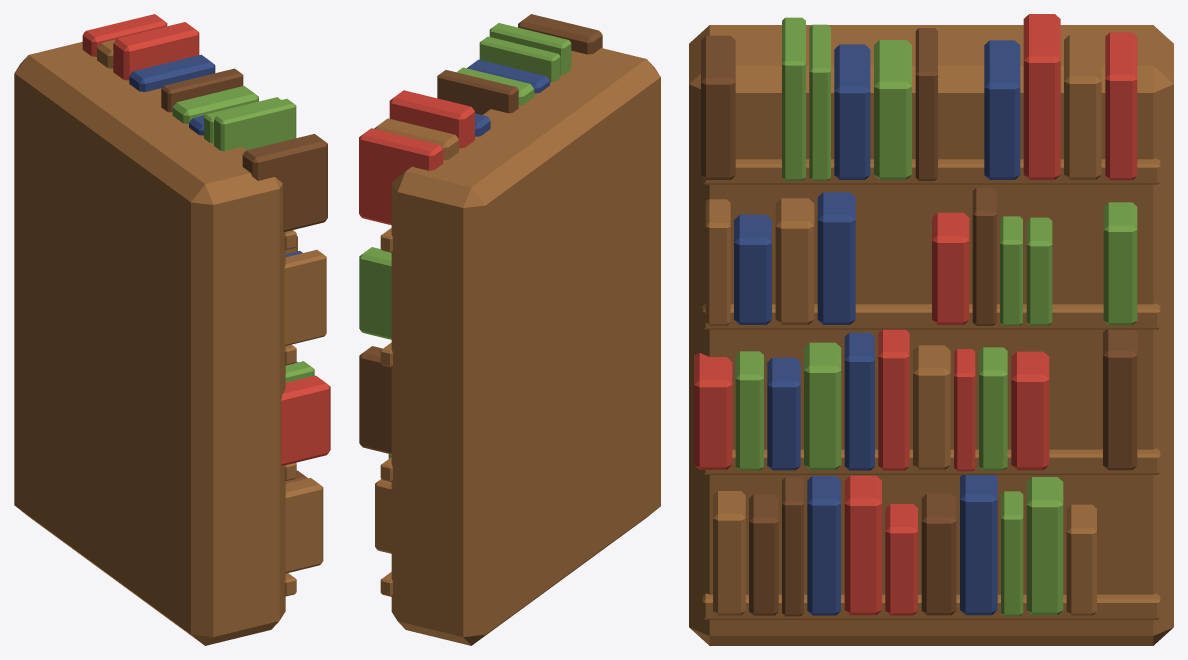
Rendered from prop_bookshelf_704c.glb.
3 renders of one model, left to right at view 1: azimuth 30°, elevation 25°; view 2: azimuth 150°, elevation 25°; view 3: azimuth 270°, elevation 25°, orthographic. The views are drawn at different scales.
Parts seen in each view (by area): view 1: prop_bookshelf_704c; view 2: prop_bookshelf_704c; view 3: prop_bookshelf_704c.
Boxes of the visible parts, box(x1,y1,x2,y2) form: prop_bookshelf_704c: box(14, 14, 330, 645); prop_bookshelf_704c: box(359, 14, 660, 645); prop_bookshelf_704c: box(689, 14, 1173, 645).
Size of the model in its own units: 0.3802 by 1.33 by 0.937.
Materials: 1 (1 with a texture image).
